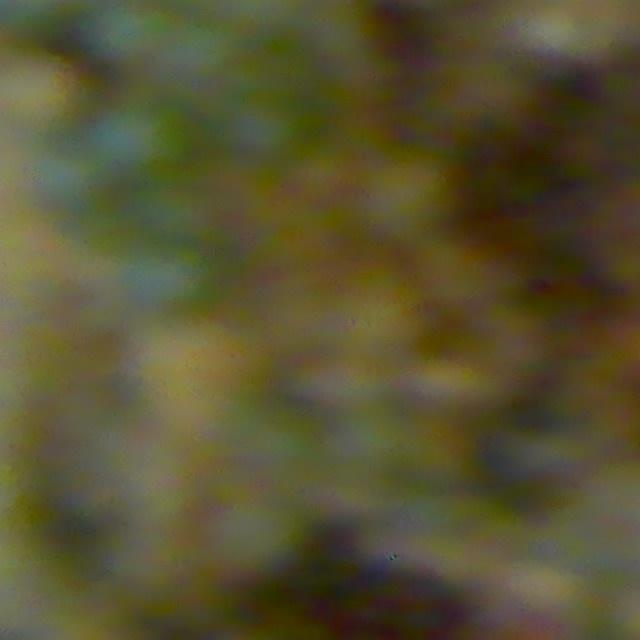SeaGrape: (361, 152, 457, 245), (207, 493, 304, 580), (93, 96, 191, 179), (223, 91, 304, 165), (27, 142, 100, 213)
